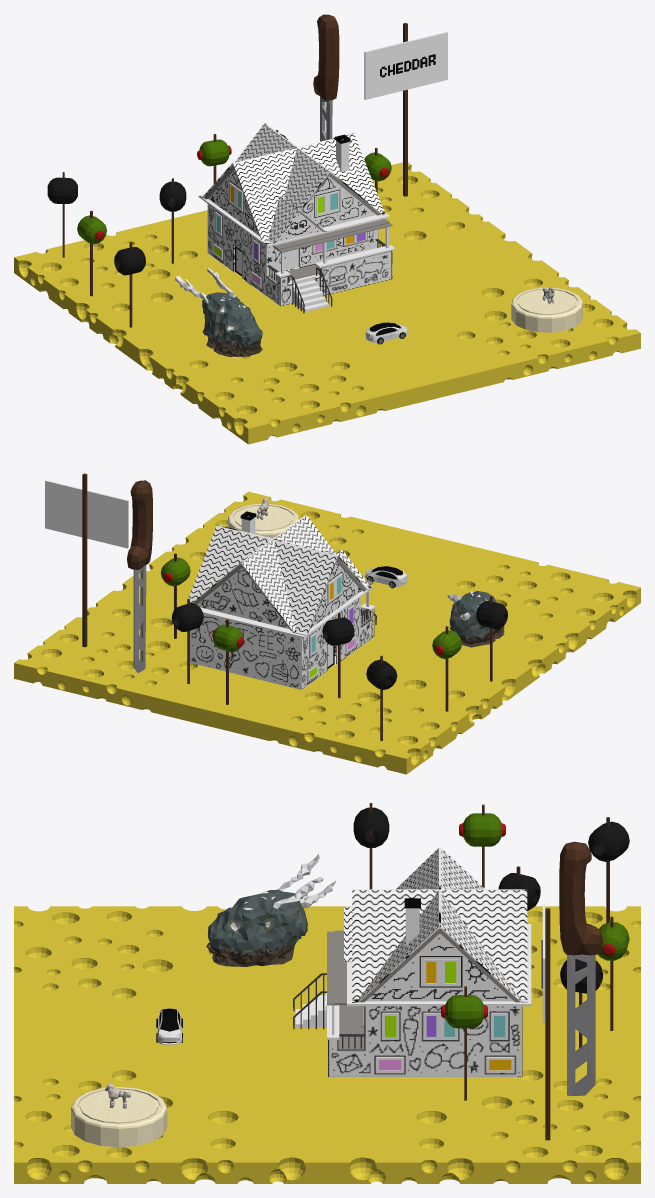
The picture shows the model from 3 angles, top to bottom: view 1: azimuth 30°, elevation 25°; view 2: azimuth 150°, elevation 25°; view 3: azimuth 270°, elevation 25°; orthographic projection. The views are drawn at different scales.
Visible parts, largest first — view 1: Cube.022, Cube.879, Cube.023, OBJRANDOM_METEORITE, Cylinder.016, Cube.024, Sphere.017, Sphere.016, Sphere.020, Sphere.018, Sphere.022, VEHICLES_TESLA (+1 smaller); view 2: Cube.022, Cube.879, Cube.023, Cube.024, OBJRANDOM_METEORITE, Cylinder.016, Sphere.017, Sphere.020, Sphere.021, Sphere.016, Sphere.018, Sphere.022 (+2 smaller); view 3: Cube.022, Cube.879, OBJRANDOM_METEORITE, Cube.024, Cylinder.016, Cube.023, Sphere.019, Sphere.016, Sphere.018, Sphere.017, Sphere.022, VEHICLES_TESLA (+2 smaller).
Boxes of the visible parts, x1,y1,x2,y2 form: Cube.022: (14, 162, 640, 444); Cube.879: (198, 123, 394, 313); Cube.023: (364, 23, 447, 196); OBJRANDOM_METEORITE: (175, 268, 262, 357); Cylinder.016: (511, 287, 582, 332); Cube.024: (313, 14, 339, 141); Sphere.017: (114, 242, 145, 327); Sphere.016: (47, 172, 77, 257); Sphere.020: (159, 178, 186, 263); Sphere.018: (77, 210, 106, 296); Sphere.022: (197, 134, 231, 183); VEHICLES_TESLA: (365, 322, 407, 344); Cube.022: (14, 491, 640, 774); Cube.879: (185, 511, 376, 689); Cube.023: (45, 473, 128, 647); Cube.024: (127, 480, 152, 672); OBJRANDOM_METEORITE: (447, 590, 504, 647); Cylinder.016: (228, 503, 298, 538); Sphere.017: (476, 596, 507, 681); Sphere.020: (322, 612, 354, 698); Sphere.021: (171, 598, 203, 683); Sphere.016: (366, 655, 397, 741); Sphere.018: (432, 626, 461, 711); Sphere.022: (212, 619, 244, 704); Cube.022: (14, 906, 640, 1183); Cube.879: (293, 847, 531, 1076); OBJRANDOM_METEORITE: (206, 854, 335, 966); Cube.024: (559, 841, 602, 1095); Cylinder.016: (71, 1086, 167, 1147); Cube.023: (541, 904, 550, 1140); Sphere.019: (441, 986, 487, 1100); Sphere.016: (588, 817, 629, 922); Sphere.018: (459, 804, 505, 887); Sphere.017: (353, 803, 389, 889); Sphere.022: (598, 916, 629, 1030); VEHICLES_TESLA: (156, 1008, 182, 1044).
Size of the model in its own units: 3917 by 2159 by 4000.
37 materials, 10 textured.
